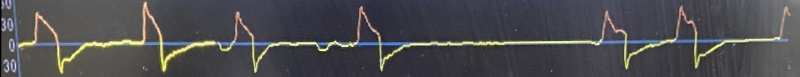normal_flow: (6, 0, 796, 76)
